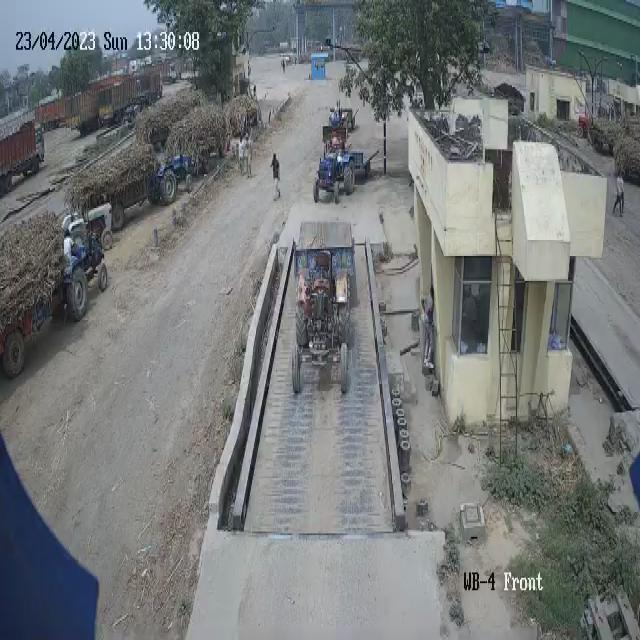Tratores - v5 YOLO V8L 2024-11-13: (294, 249, 354, 400), (62, 212, 112, 312), (317, 130, 364, 202), (160, 133, 198, 212)
